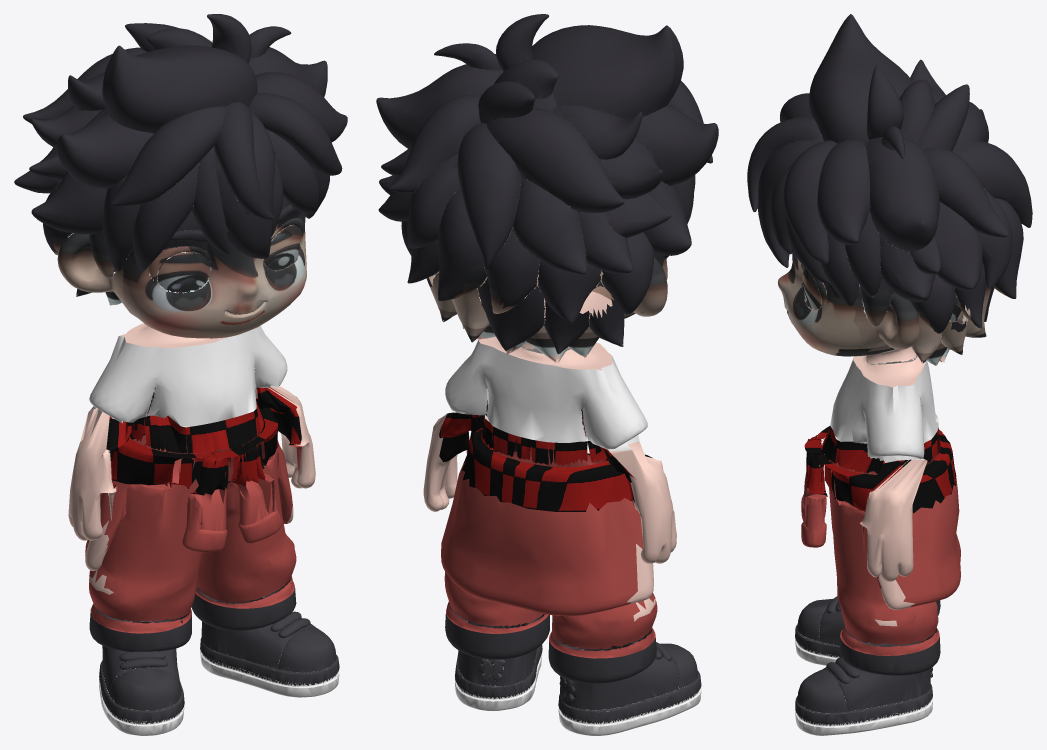
Rendered from chibi_restyle.glb.
3 renders of one model, left to right at view 1: azimuth 30°, elevation 25°; view 2: azimuth 150°, elevation 25°; view 3: azimuth 270°, elevation 25°, orthographic. The views are drawn at different scales.
Parts seen in each view (by area): view 1: Chibi; view 2: Chibi; view 3: Chibi.
Boxes of the visible parts, x1=… form: Chibi: x1=14, y1=14, x2=347, y2=735; Chibi: x1=376, y1=14, x2=718, y2=735; Chibi: x1=747, y1=14, x2=1032, y2=735.
Bounding box in the file's own units: 0.843 × 1.8 × 0.7377.
Materials: 8 (2 with a texture image).
